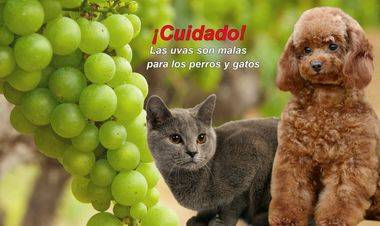Green grapes: (1, 2, 148, 226)
